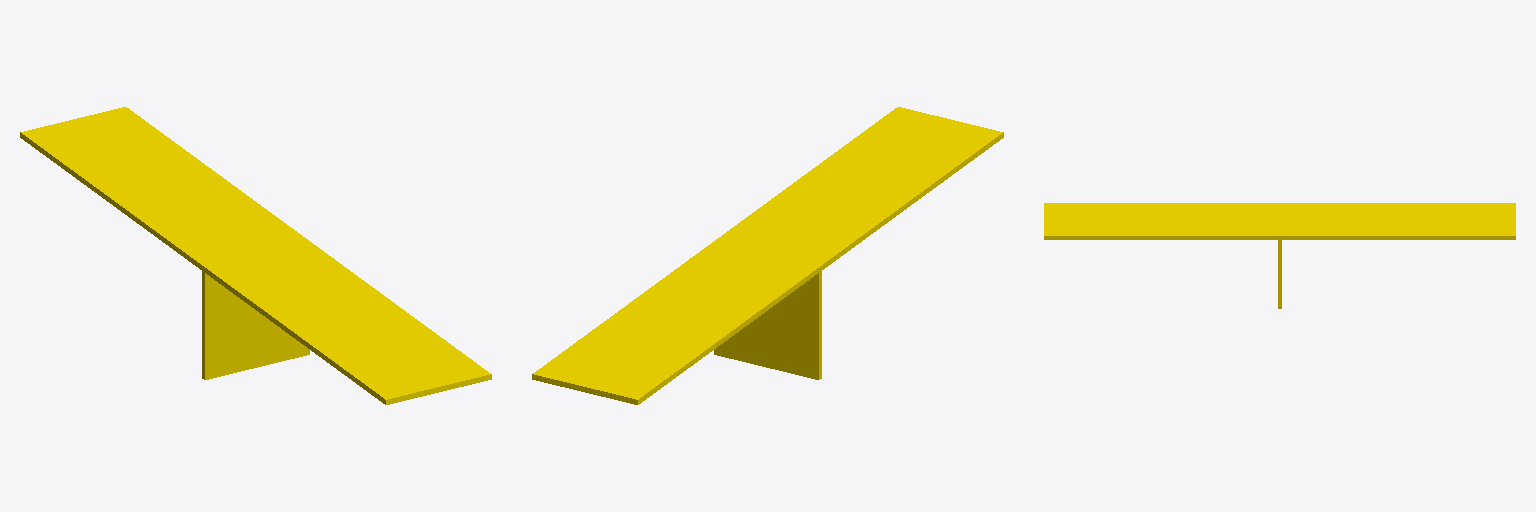
The robot description file, URDF, robot "seesaw":
<?xml version="1.0"?>
<robot name="seesaw">
  <link name="base_link">
    <inertial>
      <origin xyz="0 0 0" rpy="0 0 0" />
      <mass value="1" />
      <inertia ixx="0.01336" ixy="0" ixz="0" iyy="0.03416" iyz="0"
          izz="0.016" />
    </inertial>

    <visual>
      <origin xyz="0 0 0.1" rpy="0 0 0" />
      <geometry>
        <box size="0.2 0.01 0.2" />
      </geometry>
      <material name="yellow">
        <color rgba="1.0 0.9 0.0 1.0" />
      </material>
    </visual>

    <collision>
      <origin xyz="0 0 0.1" rpy="0 0 0" />
      <geometry>
        <box size="0.2 0.01 0.2" />
      </geometry>
    </collision>

  </link>

  <link name="board_link">

    <inertial>
      <origin xyz="0 0 0" rpy="0 0 0" />
      <mass value="0.1" />
      <inertia ixx="0.48" ixy="0" ixz="0" iyy="0.01336" iyz="0"
          izz="0.4932" />
    </inertial>

    <visual>
      <origin xyz="0 0 0" rpy="0 0 0" />
      <geometry>
        <box size="0.2 1.2 0.01" />

      </geometry>
      <material name="yellow">
        <color rgba="1.0 0.9 0.0 1.0" />
      </material>
    </visual>

    <collision>
      <origin xyz="0 0 0" rpy="0 0 0" />
      <geometry>
        <box size="0.2 1.2 0.01" />
      </geometry>
    </collision>

  </link>

  <joint name="joint1" type="continuous">
    <parent link="base_link"/>
    <child link="board_link"/>
    <origin xyz="0 0 0.2"/>
    <axis xyz="1 0 0"/>
  </joint>

</robot>

--- Render facts (derived) ---
3 views of the same robot in one strip: view 1: azimuth 30°, elevation 25°; view 2: azimuth 150°, elevation 25°; view 3: azimuth 270°, elevation 25° (orthographic).
Robot: seesaw — 2 links, 1 joints (1 continuous); root link base_link; default pose: every joint at zero.
Links seen in each view (by area): view 1: board_link, base_link; view 2: board_link, base_link; view 3: board_link.
Link boxes in pixels (box(x1,y1,x2,y2)): board_link: box(20, 107, 491, 404); base_link: box(202, 268, 309, 379); board_link: box(532, 107, 1003, 404); base_link: box(714, 268, 821, 379); board_link: box(1044, 203, 1515, 239).
Size in the robot's own frame: 0.2 by 1.2 by 0.205 metres.
Geometry: primitives only (box / cylinder / sphere), no mesh files.